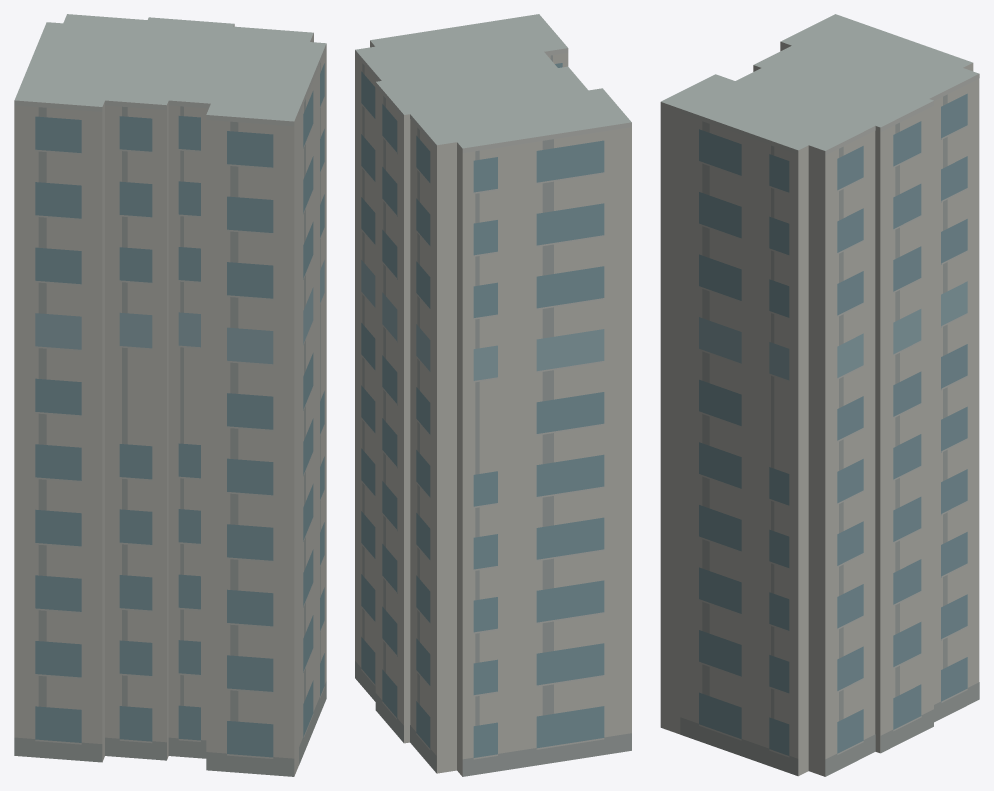
File: survey-upis-33003815.glb
The picture shows the model from 3 angles, left to right: view 1: azimuth 30°, elevation 25°; view 2: azimuth 150°, elevation 25°; view 3: azimuth 270°, elevation 25°; orthographic projection. The views are drawn at different scales.
Visible parts, largest first — view 1: survey-upis-33003815.tmp; view 2: survey-upis-33003815.tmp; view 3: survey-upis-33003815.tmp.
Boxes of the visible parts, x1,y1,x2,y2 form: survey-upis-33003815.tmp: (14,14,326,776); survey-upis-33003815.tmp: (355,14,631,776); survey-upis-33003815.tmp: (660,14,979,776).
Bounding box in the file's own units: 15.17 × 32.3 × 14.92.
